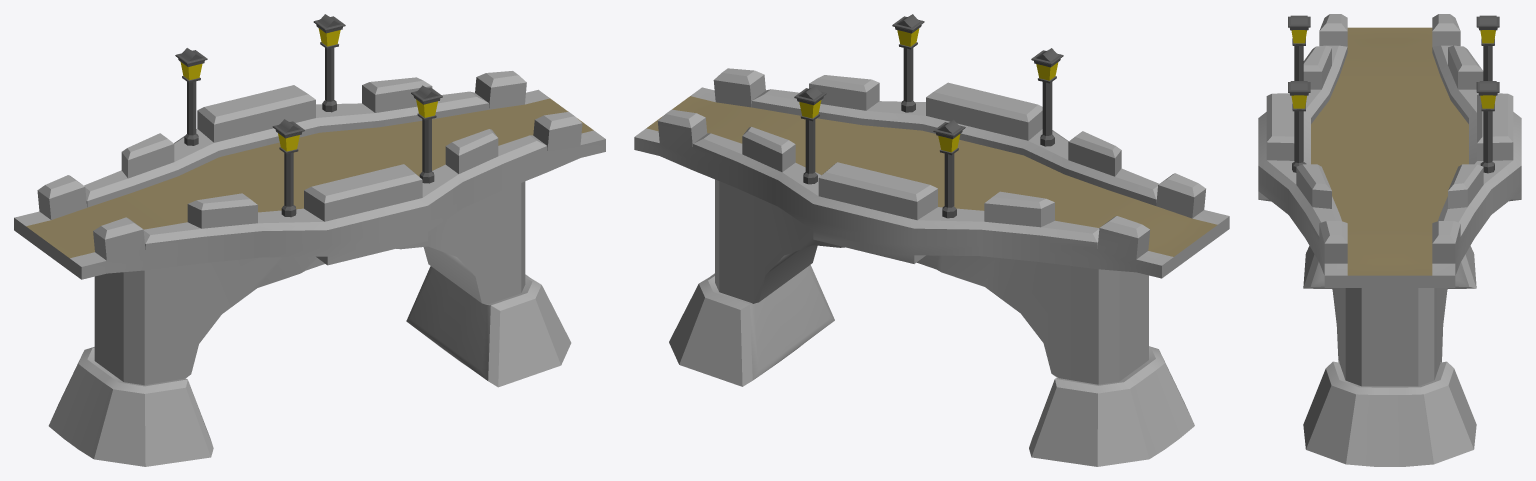
The model's file is bridgepog.fbx.
3 renders of one model, left to right at view 1: azimuth 30°, elevation 25°; view 2: azimuth 150°, elevation 25°; view 3: azimuth 270°, elevation 25°, orthographic. The views are drawn at different scales.
Parts seen in each view (by area): view 1: pCube10, pCube18, pCube21, pCube20, pCube19; view 2: pCube10, pCube21, pCube19, pCube18, pCube20; view 3: pCube10, pCube21, pCube20, pCube19, pCube18.
Boxes of the visible parts, left/top/right/bottom form: pCube10: left=14, top=71, right=605, bottom=466; pCube18: left=272, top=119, right=304, bottom=217; pCube21: left=313, top=14, right=345, bottom=112; pCube20: left=411, top=85, right=442, bottom=183; pCube19: left=175, top=48, right=207, bottom=145; pCube10: left=634, top=68, right=1229, bottom=466; pCube21: left=794, top=86, right=826, bottom=184; pCube19: left=933, top=120, right=965, bottom=218; pCube18: left=1031, top=48, right=1063, bottom=146; pCube20: left=892, top=14, right=924, bottom=112; pCube10: left=1258, top=14, right=1521, bottom=466; pCube21: left=1476, top=81, right=1499, bottom=173; pCube20: left=1288, top=81, right=1310, bottom=172; pCube19: left=1476, top=15, right=1499, bottom=80; pCube18: left=1288, top=15, right=1310, bottom=80.
Size of the model in its own units: 1273 by 739 by 570.
